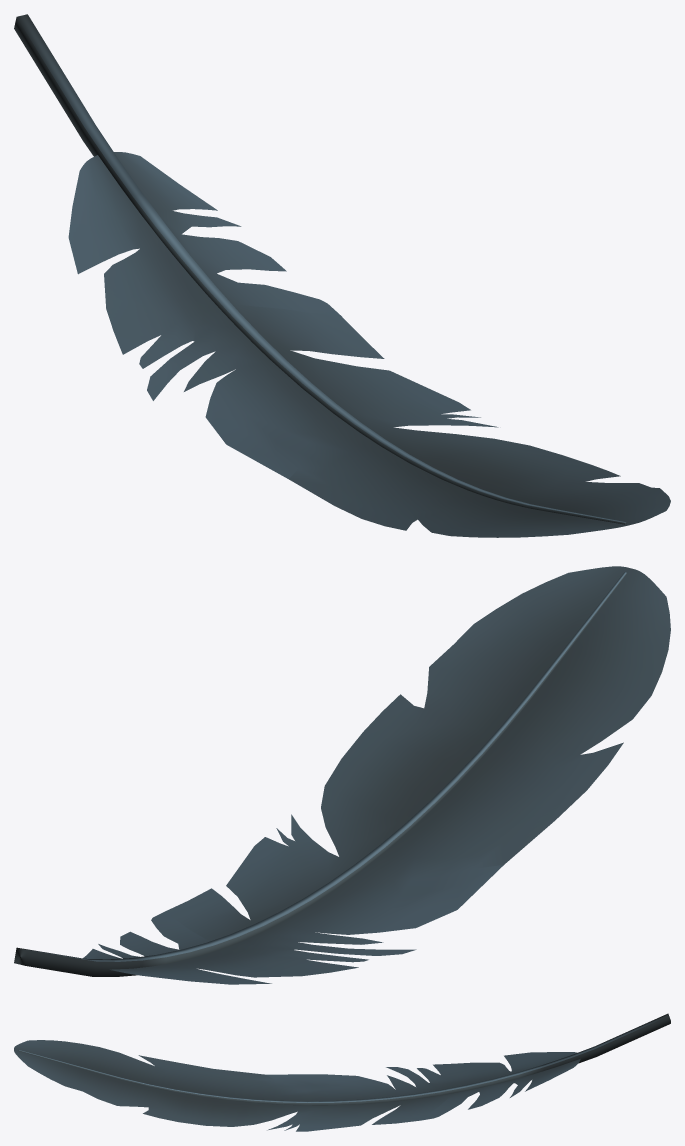
The model's file is animals-animalparts-blackfeather_v2.glb.
The picture shows the model from 3 angles, top to bottom: view 1: azimuth 30°, elevation 25°; view 2: azimuth 150°, elevation 25°; view 3: azimuth 270°, elevation 25°; orthographic projection. The views are drawn at different scales.
Parts seen in each view (by area): view 1: BlackFeather_v2; view 2: BlackFeather_v2; view 3: BlackFeather_v2.
Part boxes in pixels (x1,y1,x2,y2): BlackFeather_v2: (14,14,670,537); BlackFeather_v2: (14,566,670,984); BlackFeather_v2: (14,1013,670,1131).
Size of the model in its own units: 0.4726 by 0.3147 by 2.03.
